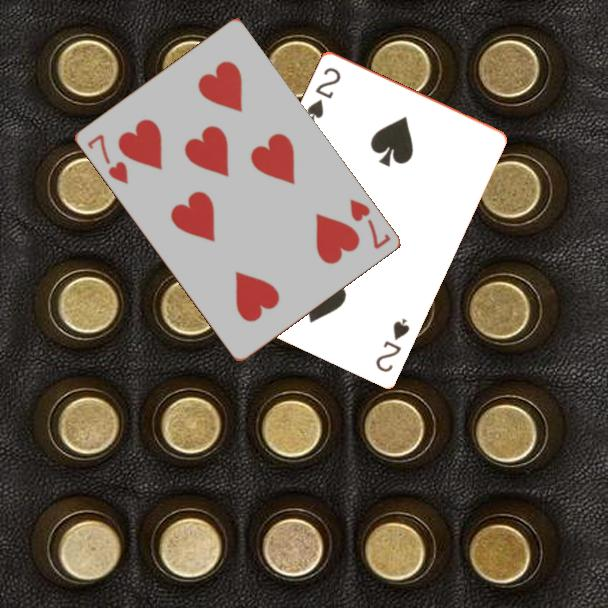h07: (83, 130, 131, 187), (345, 195, 393, 252)
s02: (303, 63, 344, 123), (372, 314, 412, 375)
